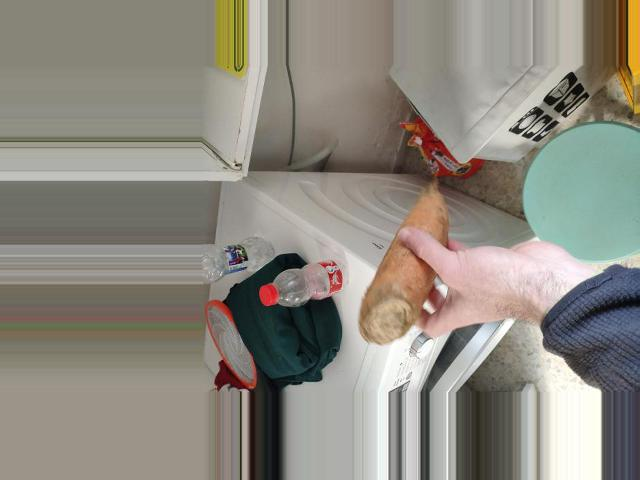sweet_potato: (352, 194, 461, 334)
